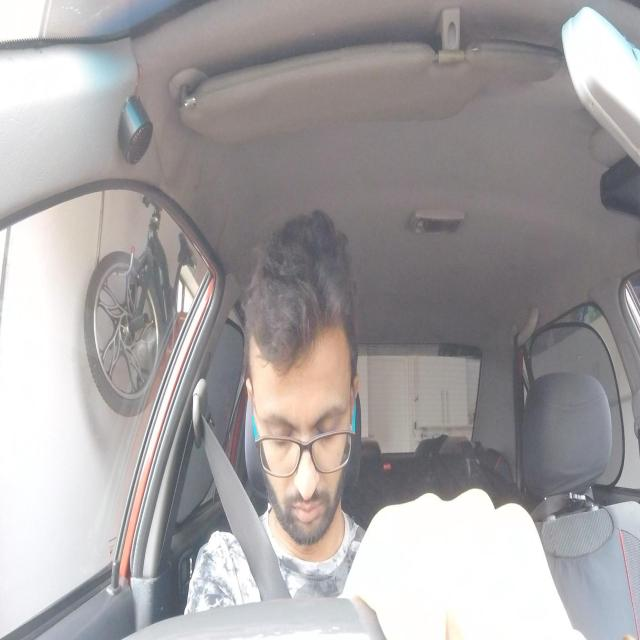close: (310, 398, 347, 449), (265, 403, 297, 450)
